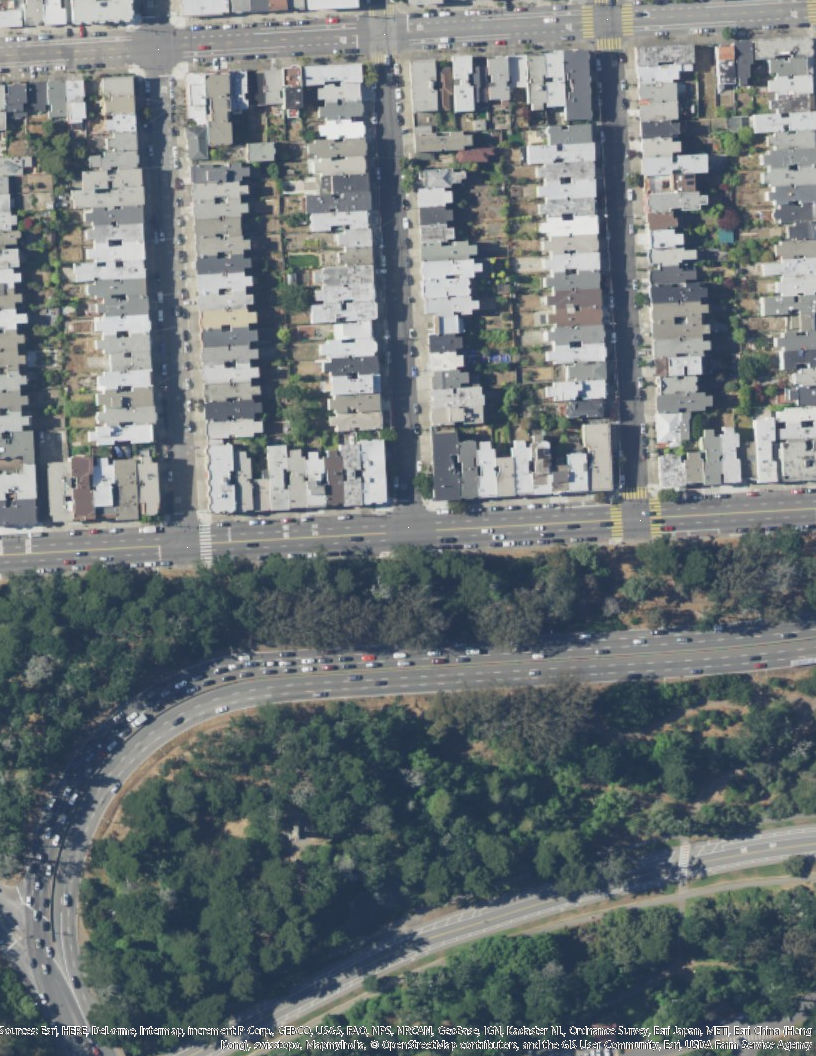zebracross: (649, 500, 664, 538), (198, 523, 212, 561), (620, 4, 635, 38), (581, 3, 594, 40), (610, 503, 623, 536), (621, 486, 651, 500), (592, 37, 623, 50), (369, 4, 396, 18), (809, 1, 816, 24)
